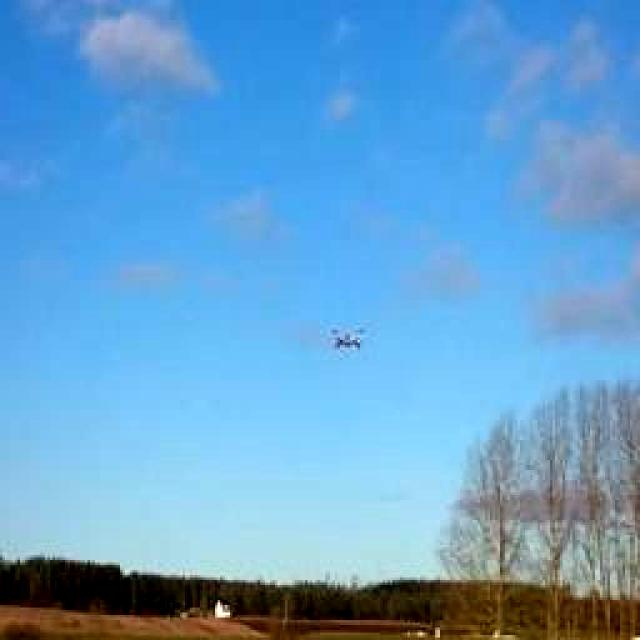bird: (308, 310, 385, 370)
